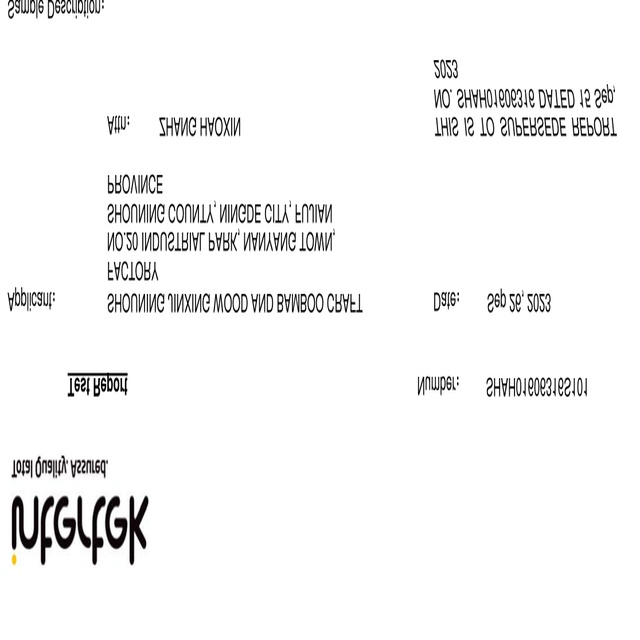intertek: (4, 492, 152, 567)
